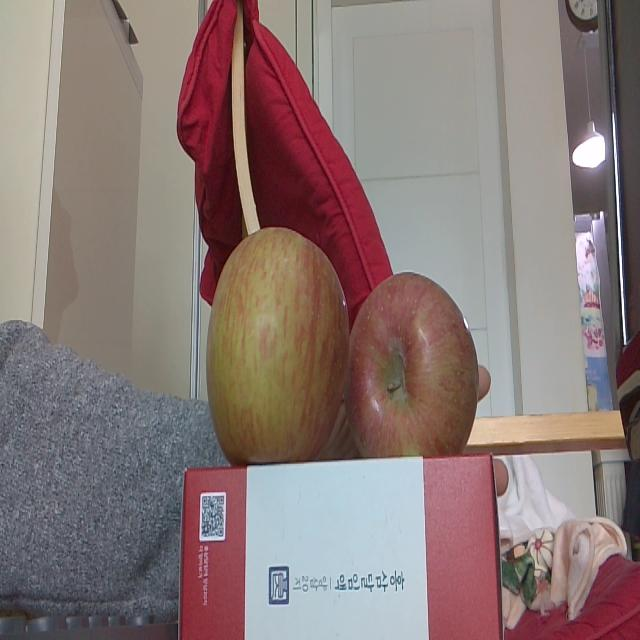apple: (206, 227, 348, 463), (350, 271, 479, 456)
